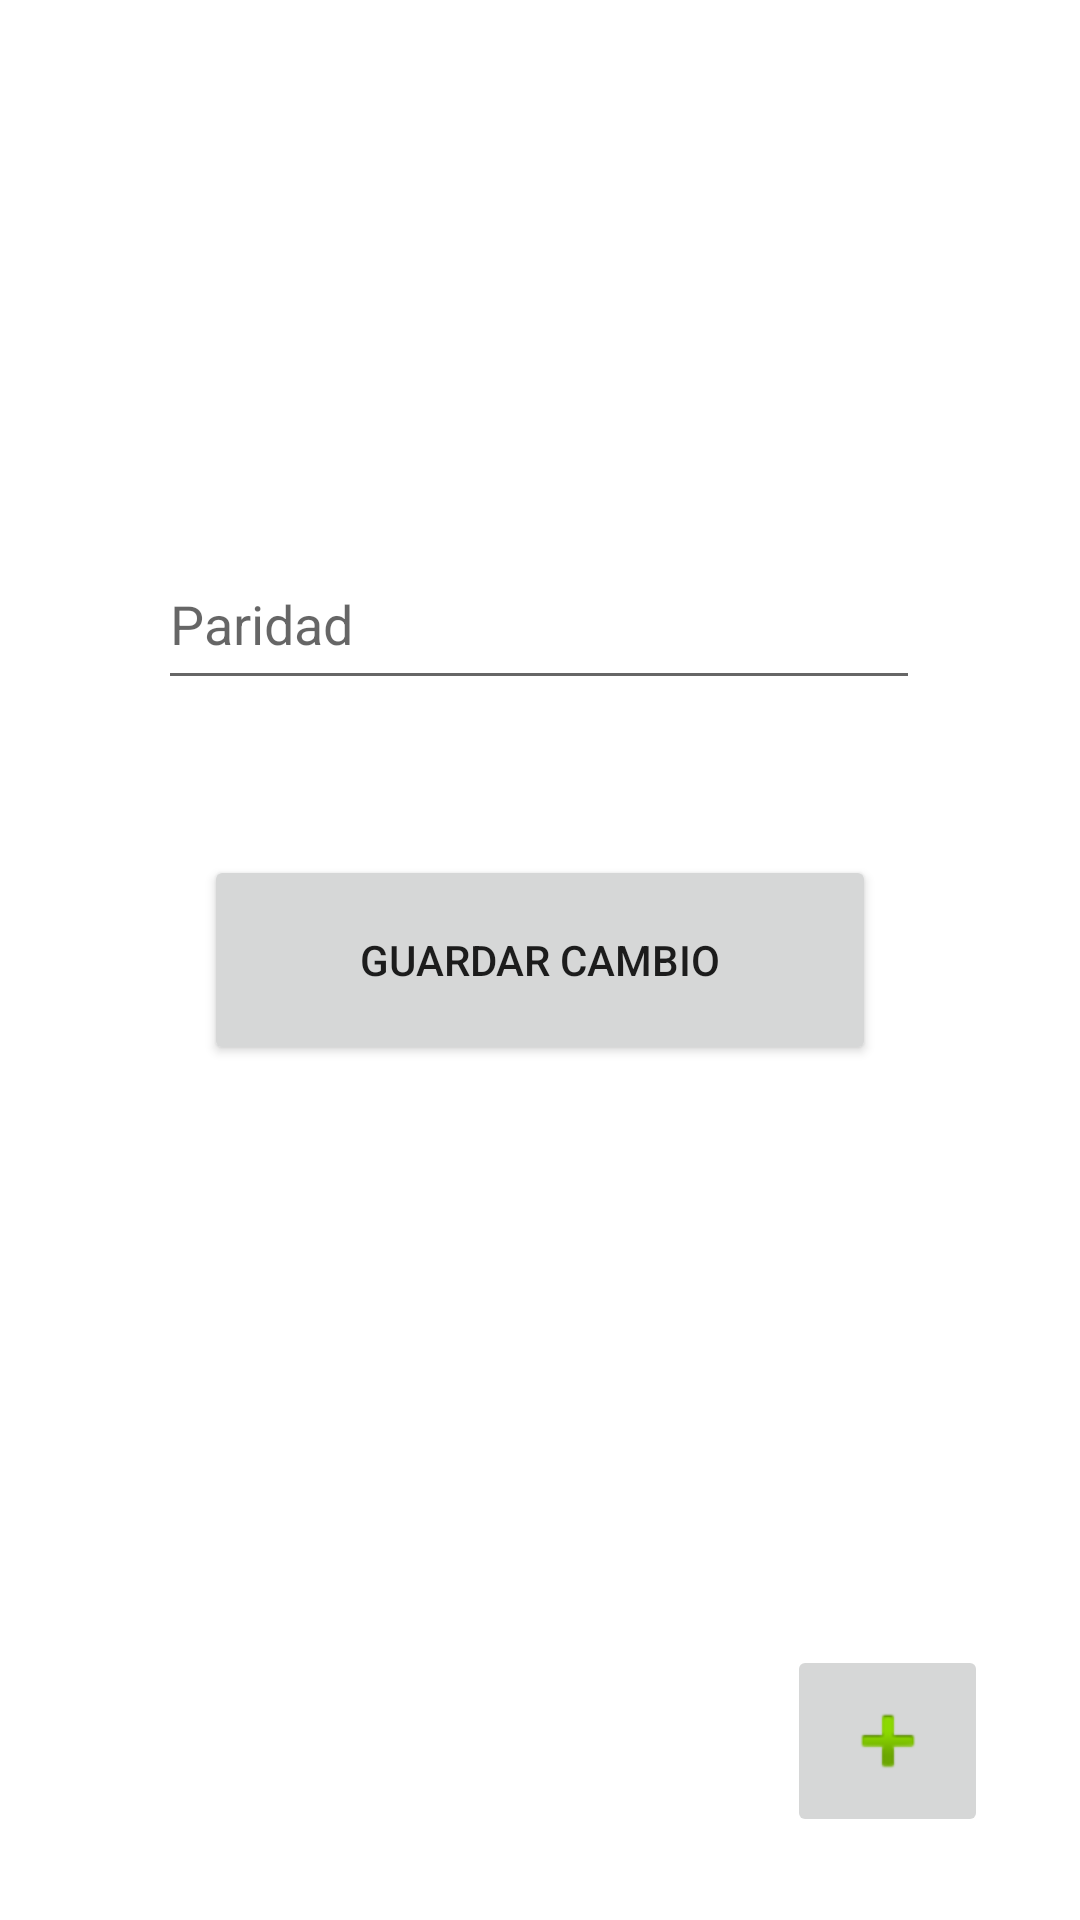

Point at icon controls on the screen. Image size 1080px×1920px, points as point (x, y).
add: point (887, 1741)
